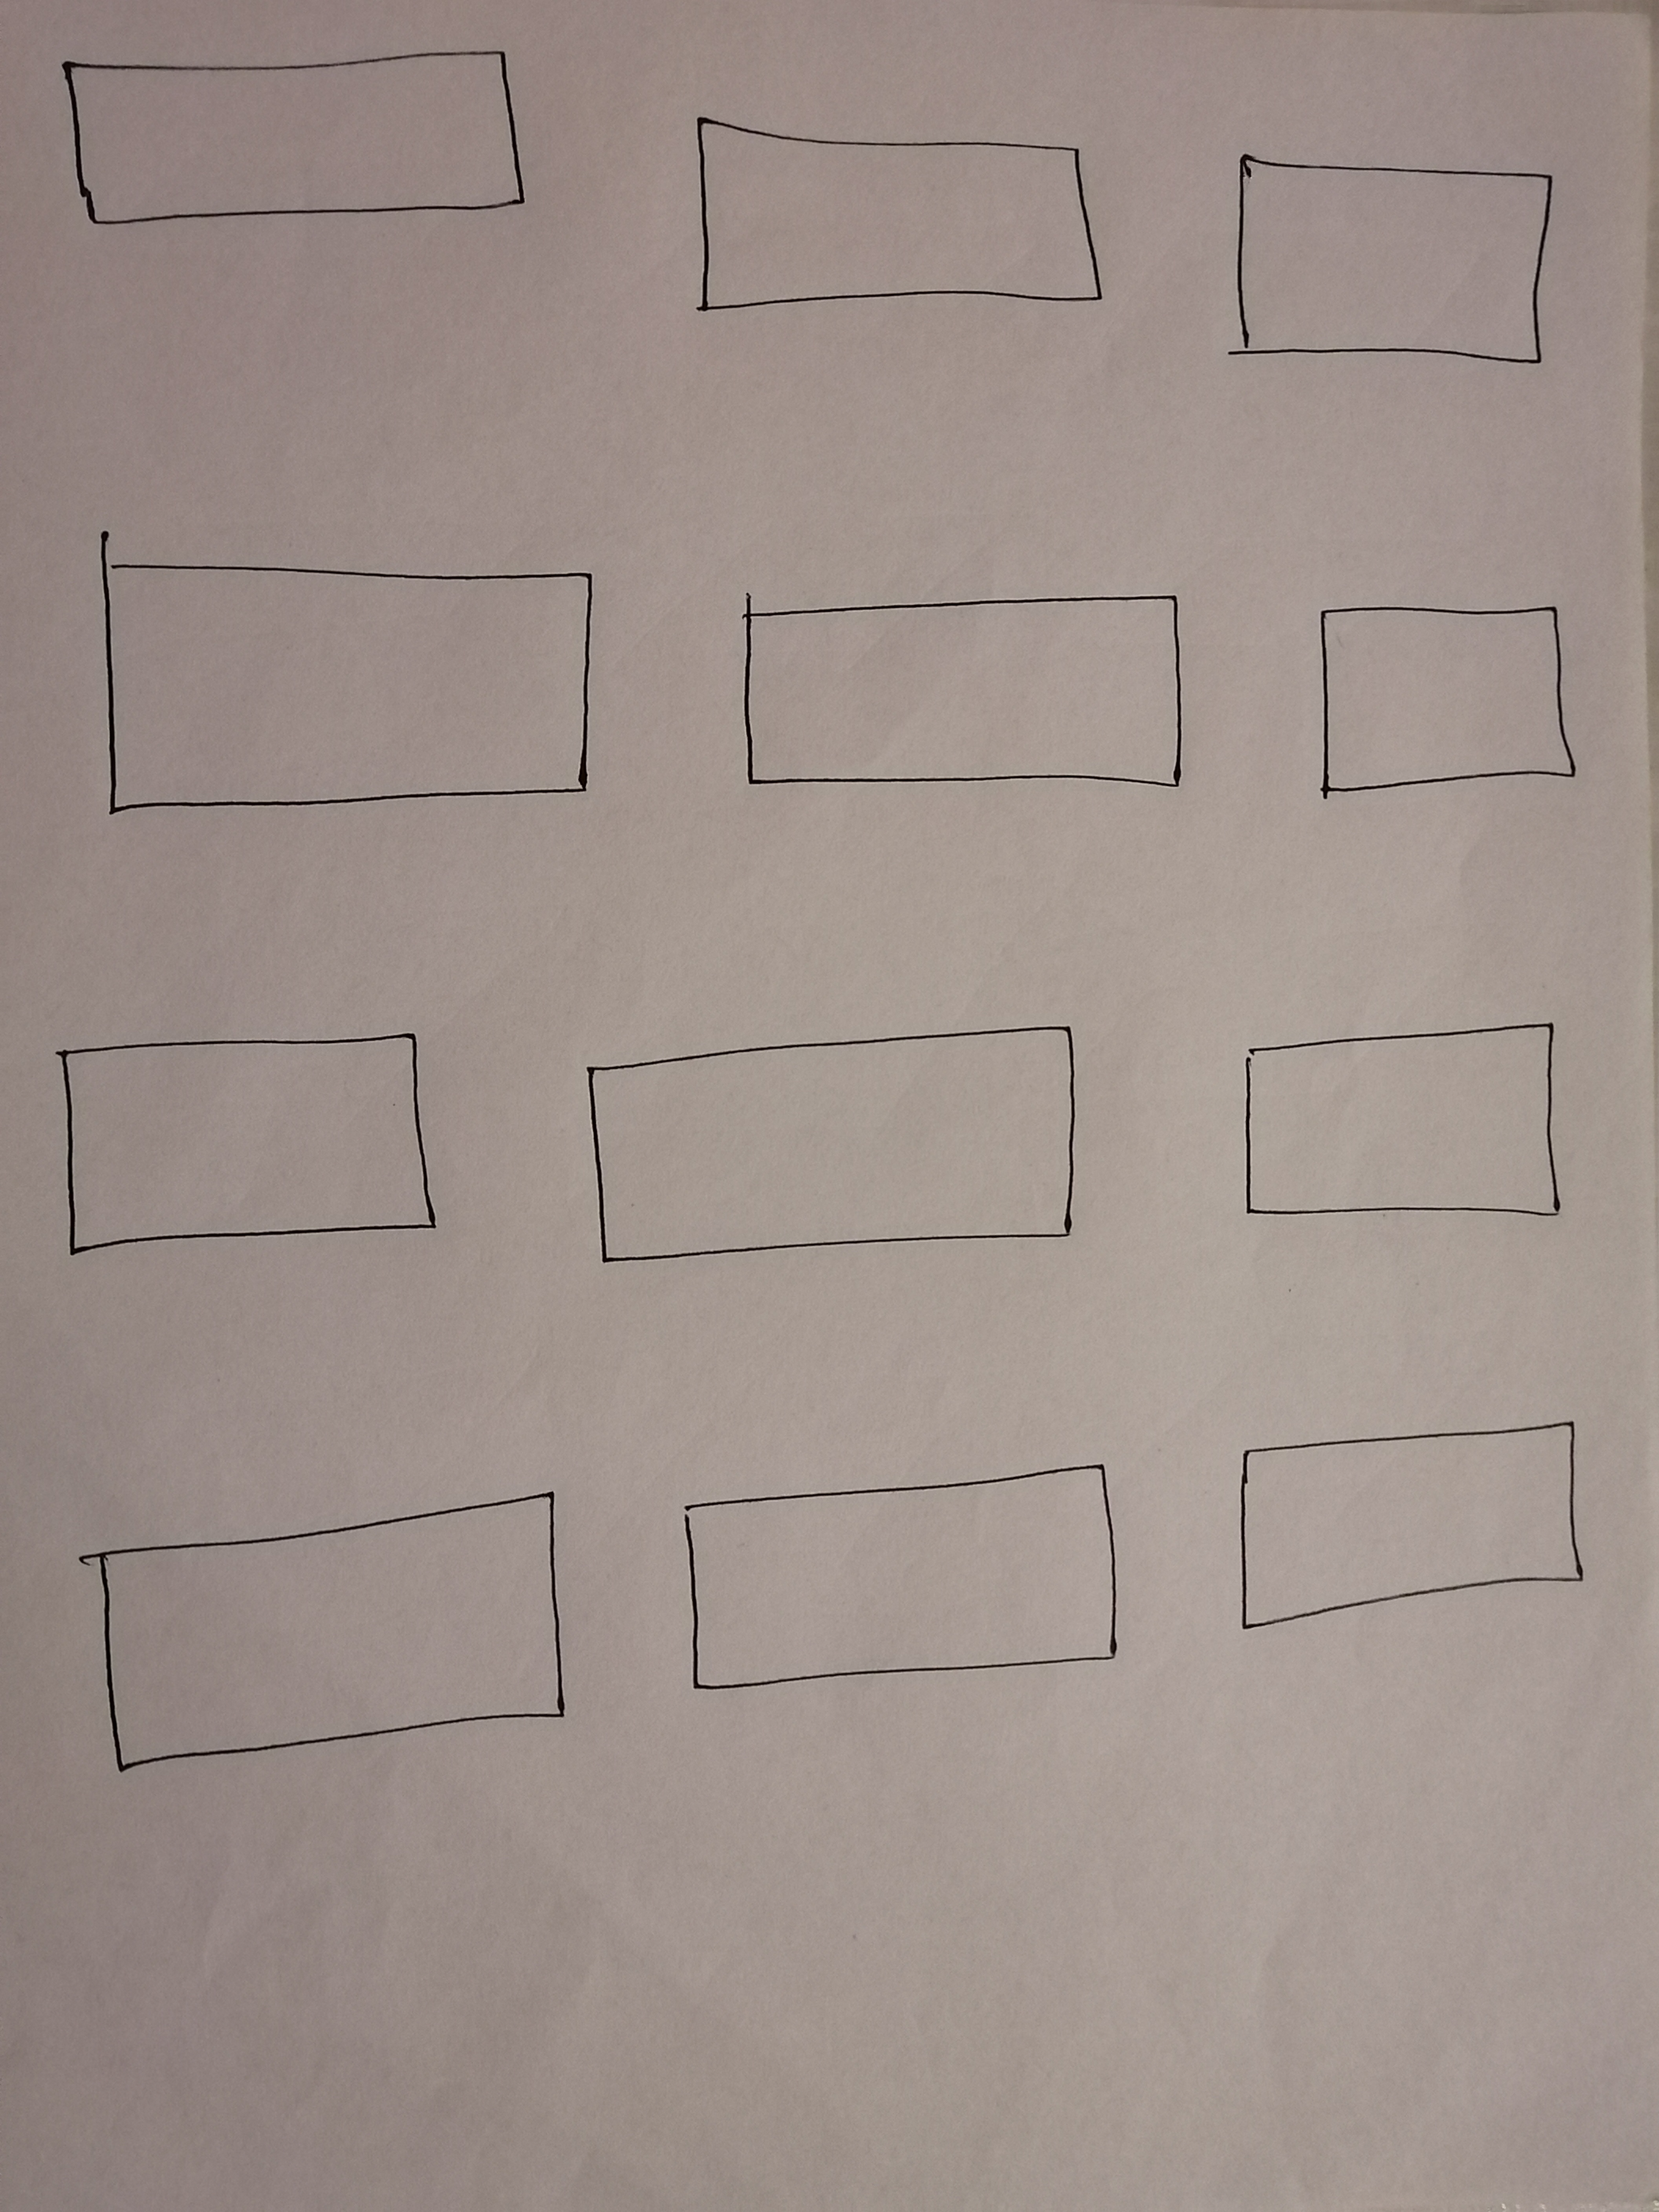process: (75, 505, 627, 878), (49, 1460, 606, 1813), (556, 1005, 1107, 1298), (645, 1442, 1159, 1742), (709, 552, 1223, 848), (664, 73, 1141, 368), (1206, 89, 1584, 413), (1199, 1388, 1624, 1667), (35, 1017, 474, 1284), (49, 35, 563, 253), (1216, 988, 1584, 1259), (1288, 570, 1624, 841)
